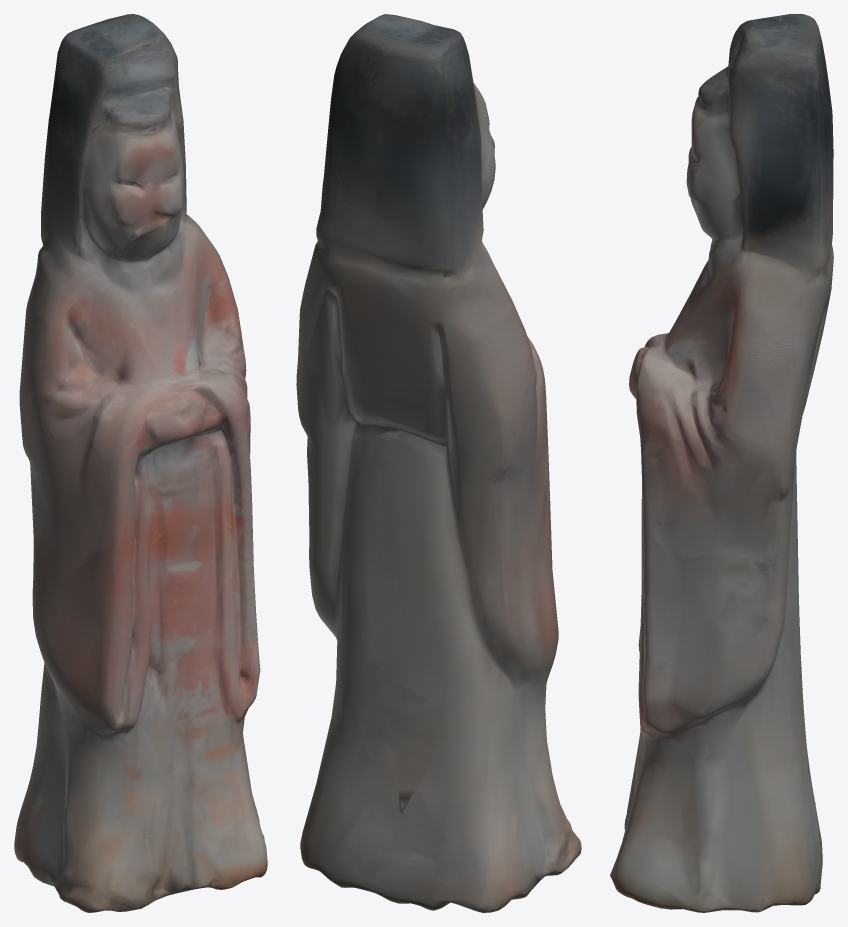
The picture shows the model from 3 angles, left to right: view 1: azimuth 30°, elevation 25°; view 2: azimuth 150°, elevation 25°; view 3: azimuth 270°, elevation 25°; orthographic projection. The views are drawn at different scales.
Parts seen in each view (by area): view 1: node_0; view 2: node_0; view 3: node_0.
Boxes of the visible parts, x1,y1,x2,y2 form: node_0: [14, 14, 267, 912]; node_0: [296, 14, 581, 912]; node_0: [610, 14, 833, 912].
Size of the model in its own units: 0.3163 by 1.16 by 0.2806.
1 material, 1 textured.
